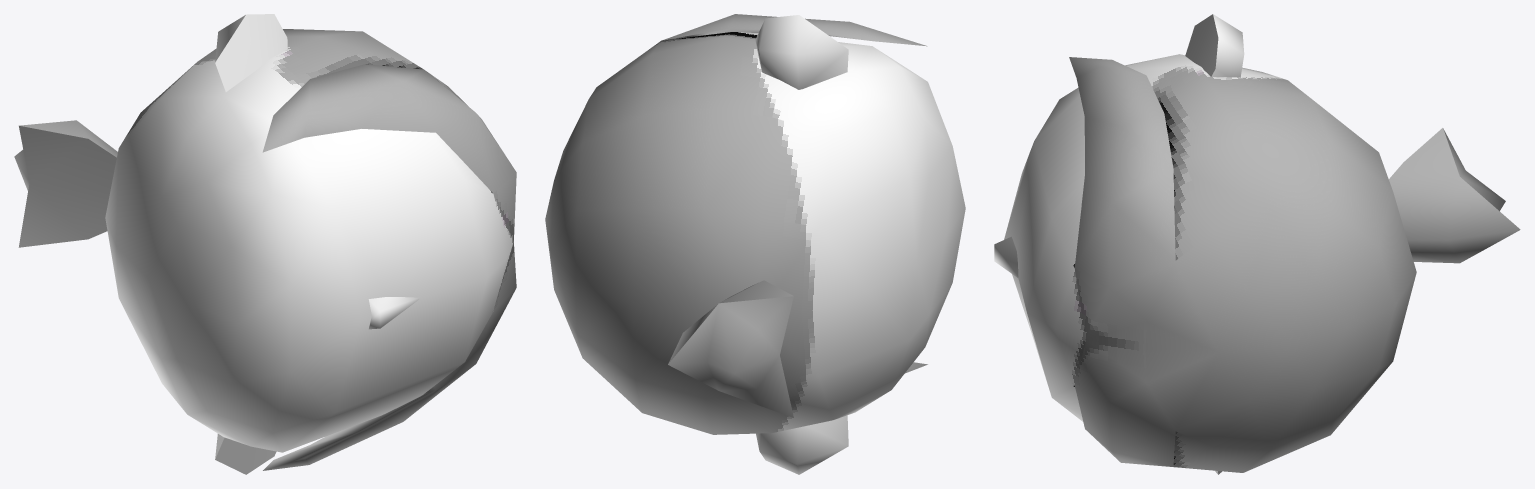
Rendered from girl08a.dae.
The picture shows the model from 3 angles, left to right: view 1: azimuth 30°, elevation 25°; view 2: azimuth 150°, elevation 25°; view 3: azimuth 270°, elevation 25°; orthographic projection.
Visible parts, largest first — view 1: girl08a; view 2: girl08a; view 3: girl08a.
Boxes of the visible parts, box(x1,y1,x2,y2) form: girl08a: box(14, 14, 516, 474); girl08a: box(545, 14, 965, 474); girl08a: box(994, 14, 1520, 474).
Bounding box in the file's own units: 20.74 × 26.71 × 28.01.
Materials: 3 (1 with a texture image).
